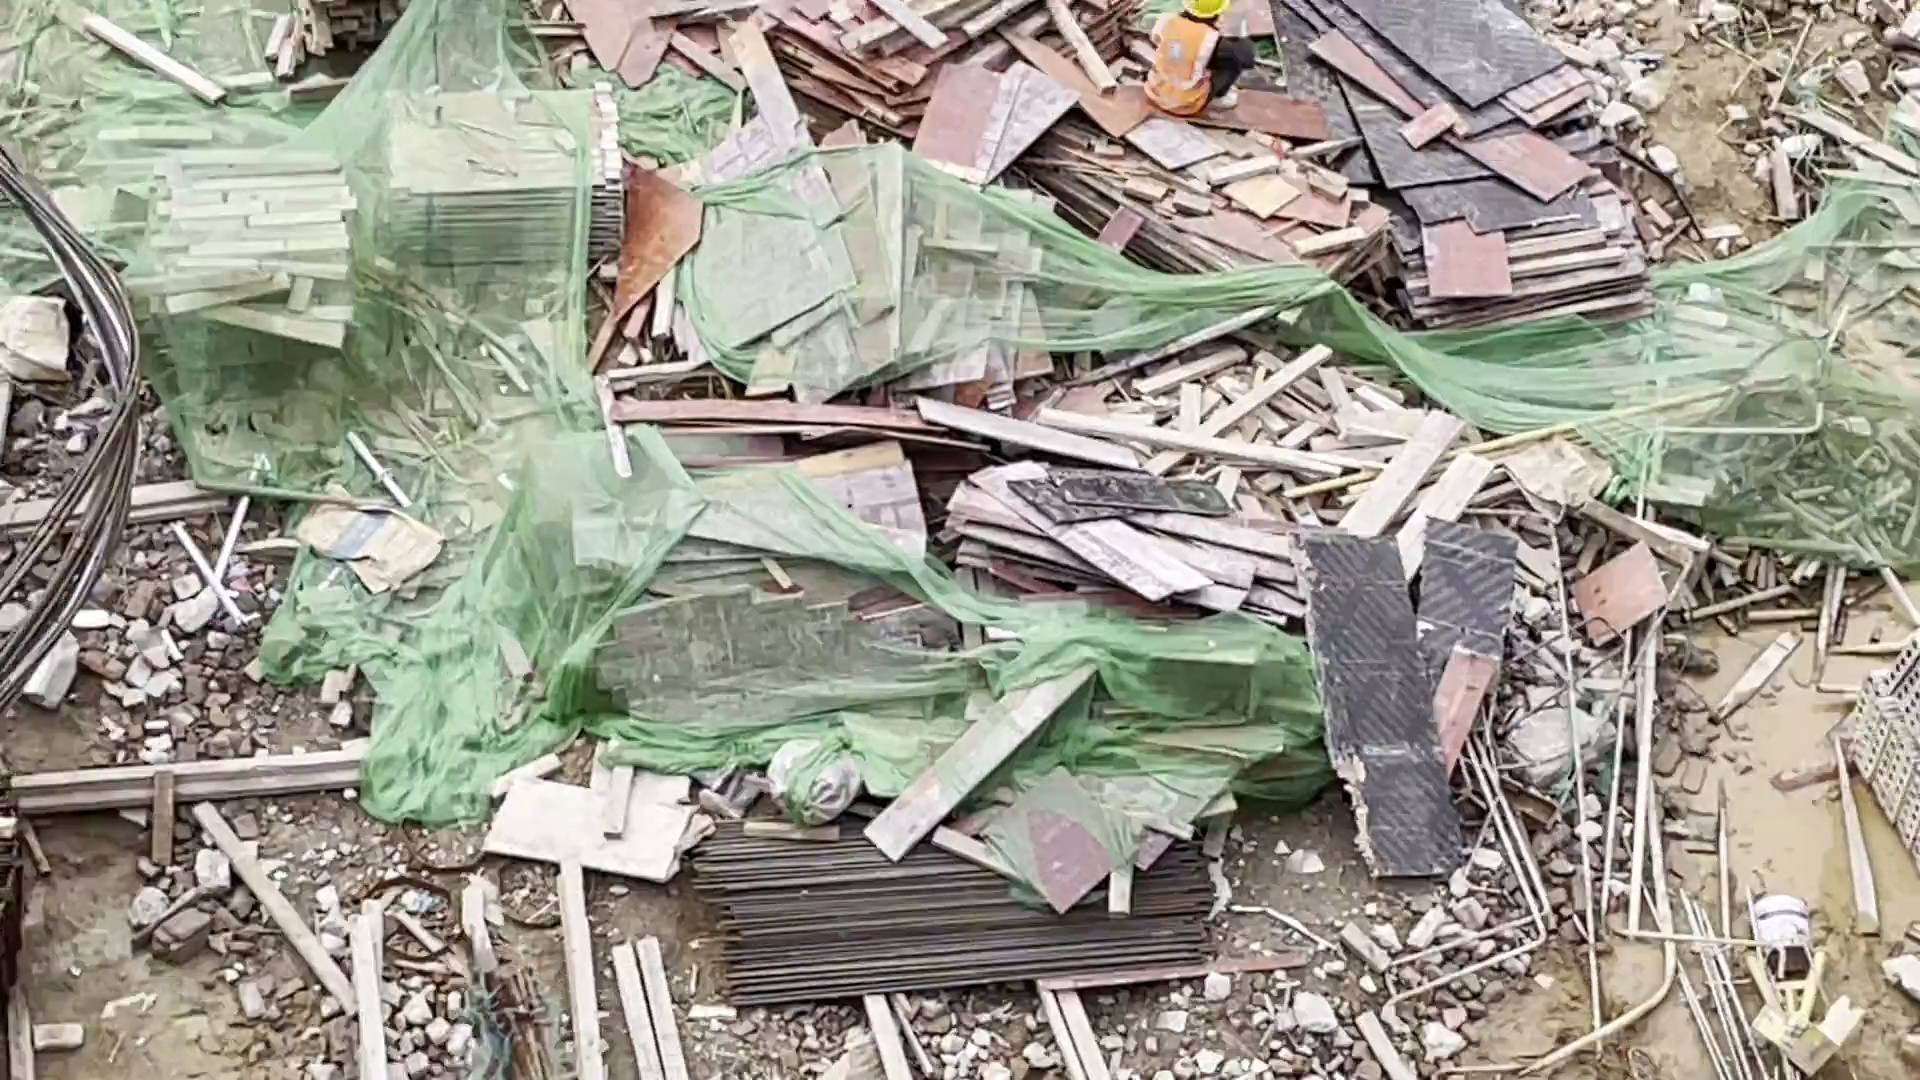person: (1143, 1, 1248, 123)
vest: (1148, 12, 1217, 124)
wood: (136, 89, 643, 400)
